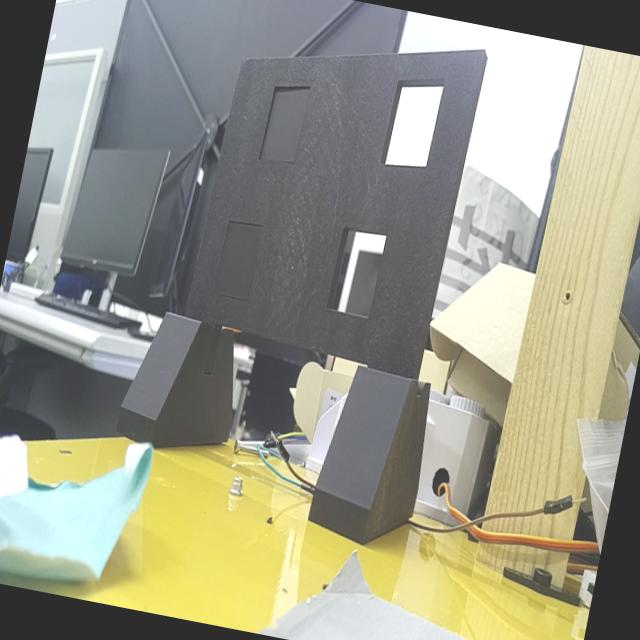Obstacle: (326, 224, 387, 320), (381, 82, 445, 168)
Wall: (185, 49, 485, 381)
